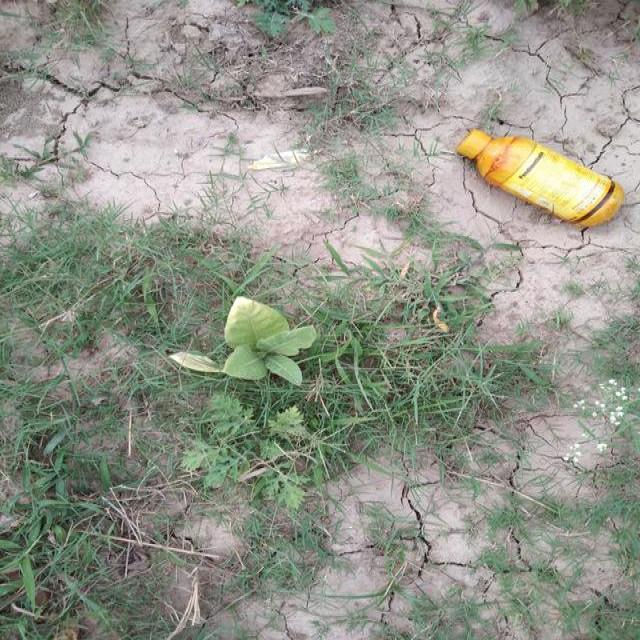crop: (215, 276, 312, 397)
